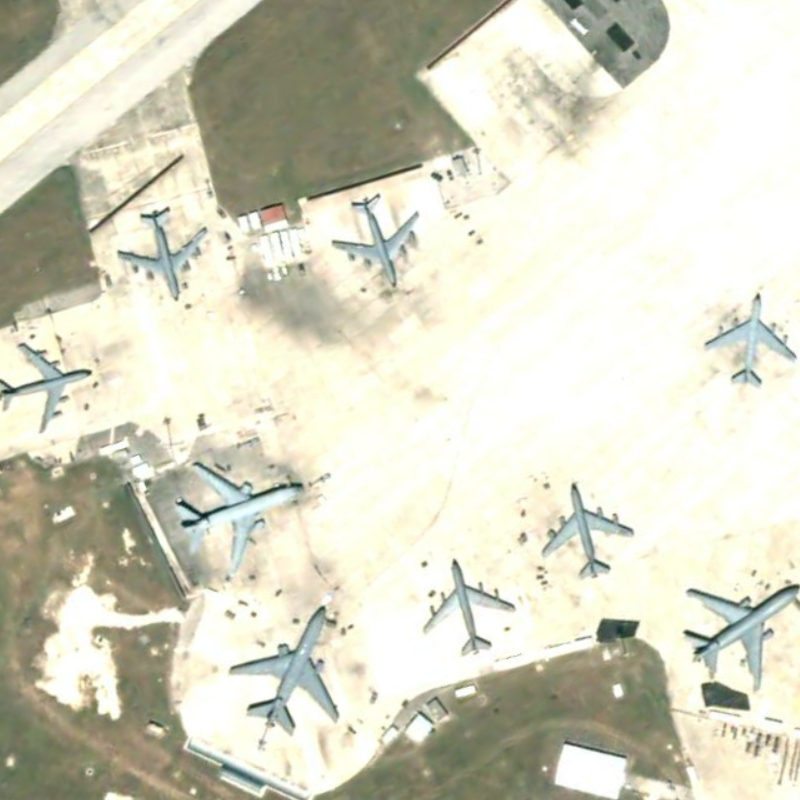A14: (322, 182, 432, 296), (412, 550, 520, 660), (533, 473, 640, 584), (696, 281, 800, 392), (111, 194, 214, 306), (2, 325, 97, 437)
A18: (168, 438, 309, 579), (227, 599, 348, 740), (677, 570, 800, 692)
